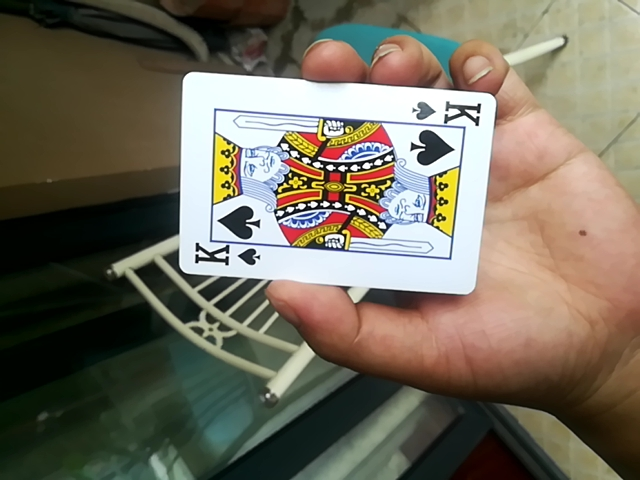ht k: (173, 74, 494, 300)
